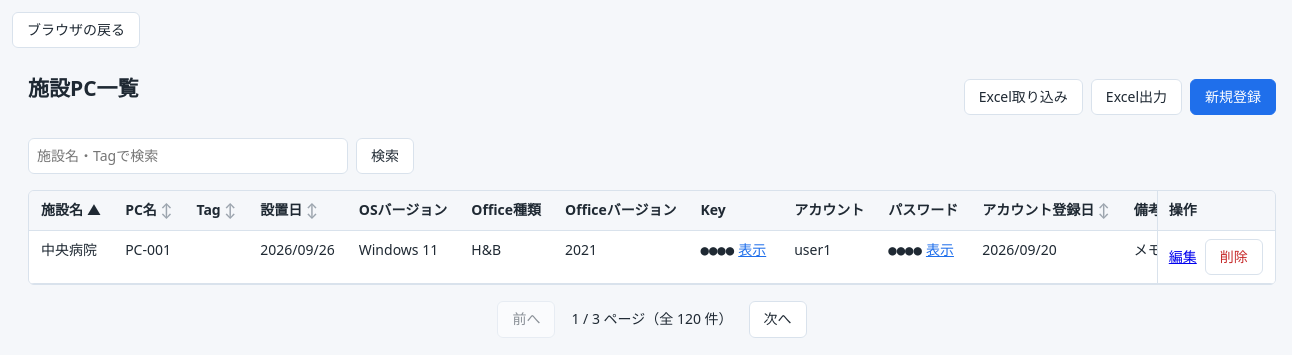
FacilityPcListPage › 条件を変えた取得に失敗したら、前の条件の表を消して操作できないようにする
Click the button "次へ" at [778, 319], box x1=749 y1=301 x2=807 y2=338
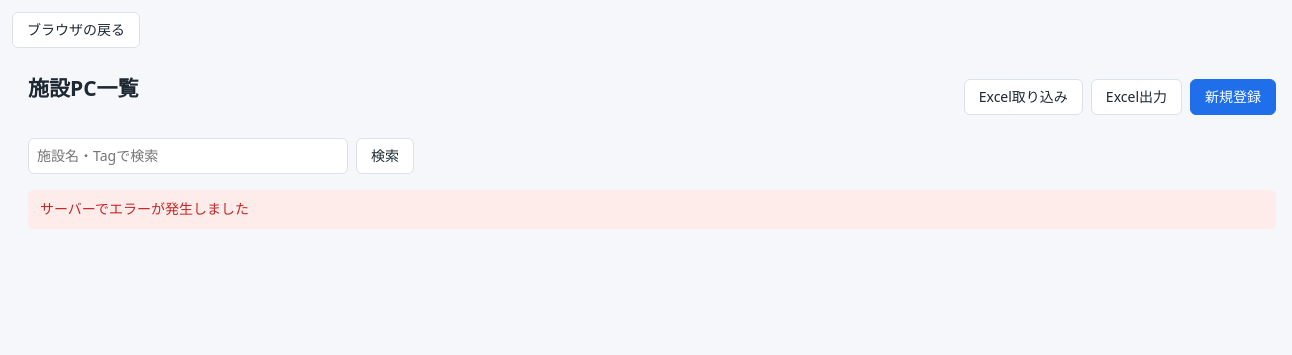
expect the message reads "サーバーでエラーが発生しました": met, box x1=40 y1=199 x2=249 y2=218
expect the cell "中央病院" is gone: met
expect the button "削除" is gone: met
